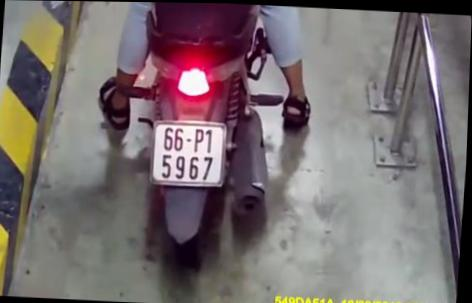LP: (151, 116, 229, 187)
